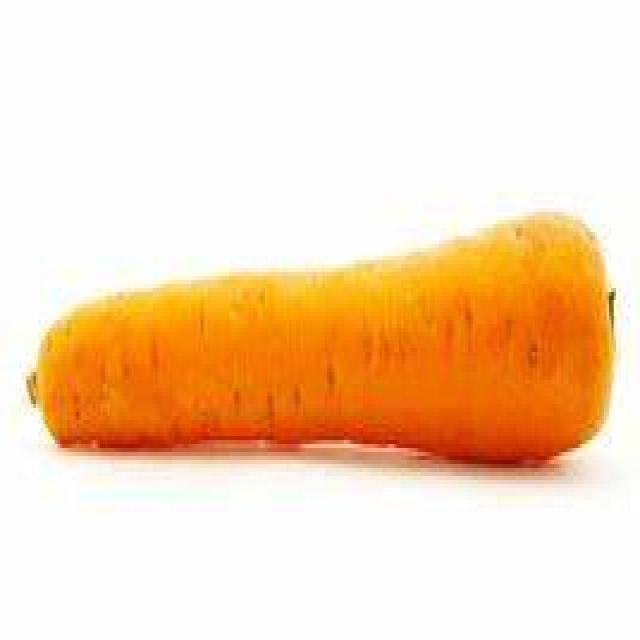Carrot: (27, 208, 618, 461)
